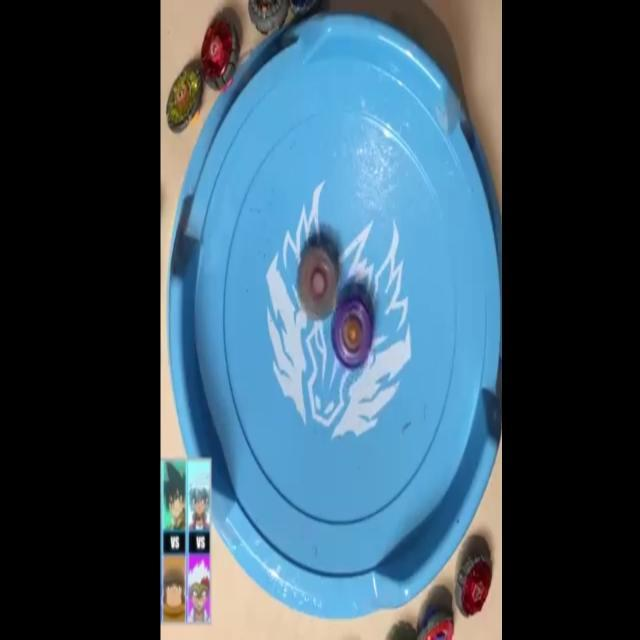Beyblade: (202, 17, 240, 94), (298, 248, 338, 320), (332, 302, 372, 369), (454, 552, 492, 618), (166, 68, 202, 134)
